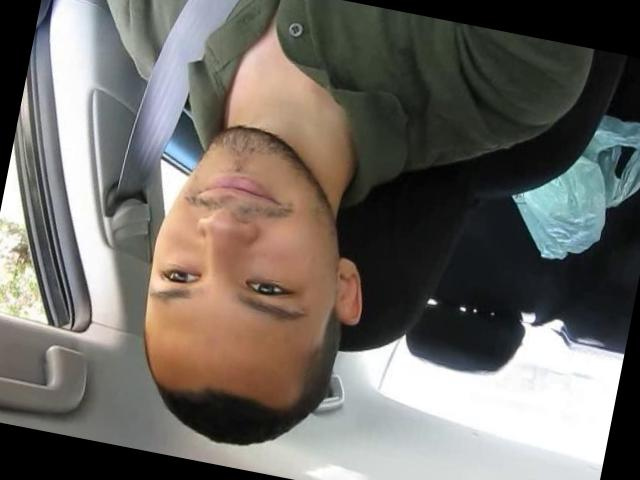eye_open: (240, 269, 301, 305), (154, 257, 205, 292)
face: (132, 119, 347, 351)
